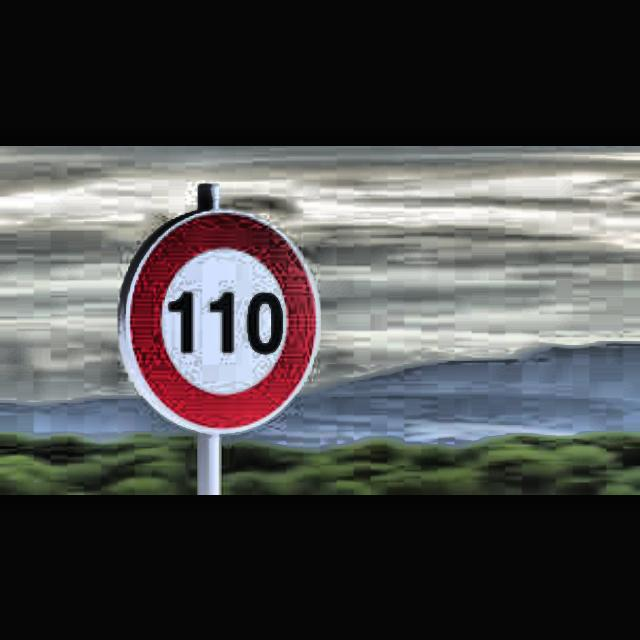speed_110: (117, 206, 321, 434)
